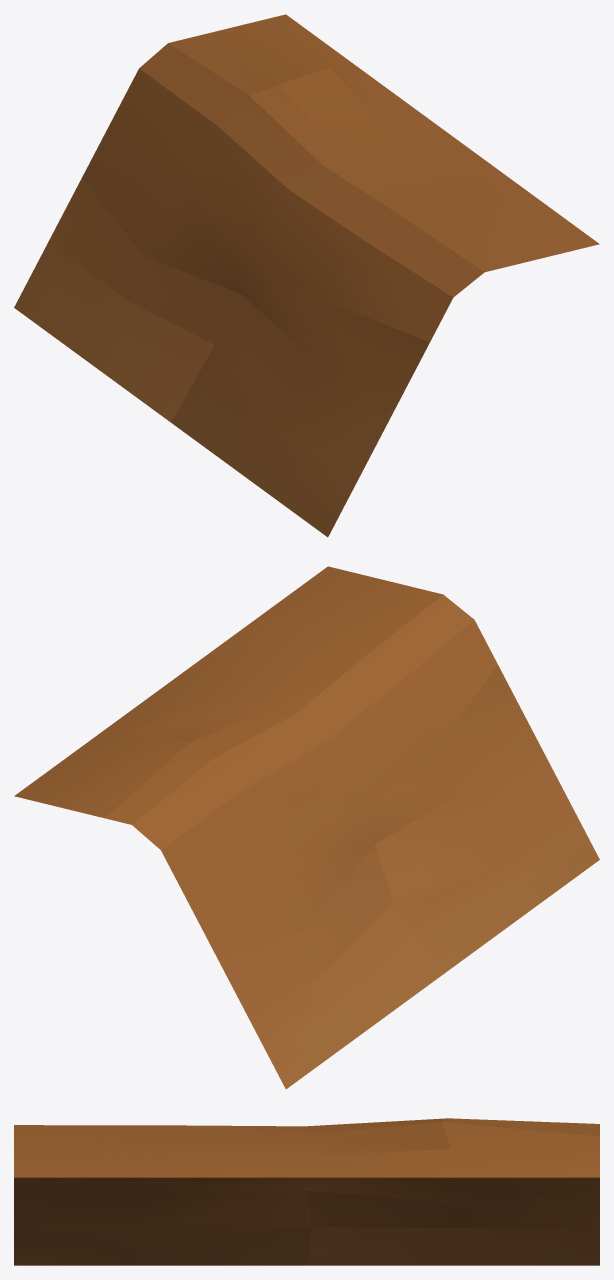
Rendered from cGround_C_Side_1__.fbx.
The picture shows the model from 3 angles, top to bottom: view 1: azimuth 30°, elevation 25°; view 2: azimuth 150°, elevation 25°; view 3: azimuth 270°, elevation 25°; orthographic projection. The views are drawn at different scales.
Visible parts, largest first — view 1: cGround_C_Side_1; view 2: cGround_C_Side_1; view 3: cGround_C_Side_1.
Part boxes in pixels (bbox=[...]): cGround_C_Side_1: bbox=[14, 14, 599, 537]; cGround_C_Side_1: bbox=[14, 566, 599, 1089]; cGround_C_Side_1: bbox=[14, 1118, 599, 1265].
Bounding box in the file's own units: 400 × 340 × 800.
